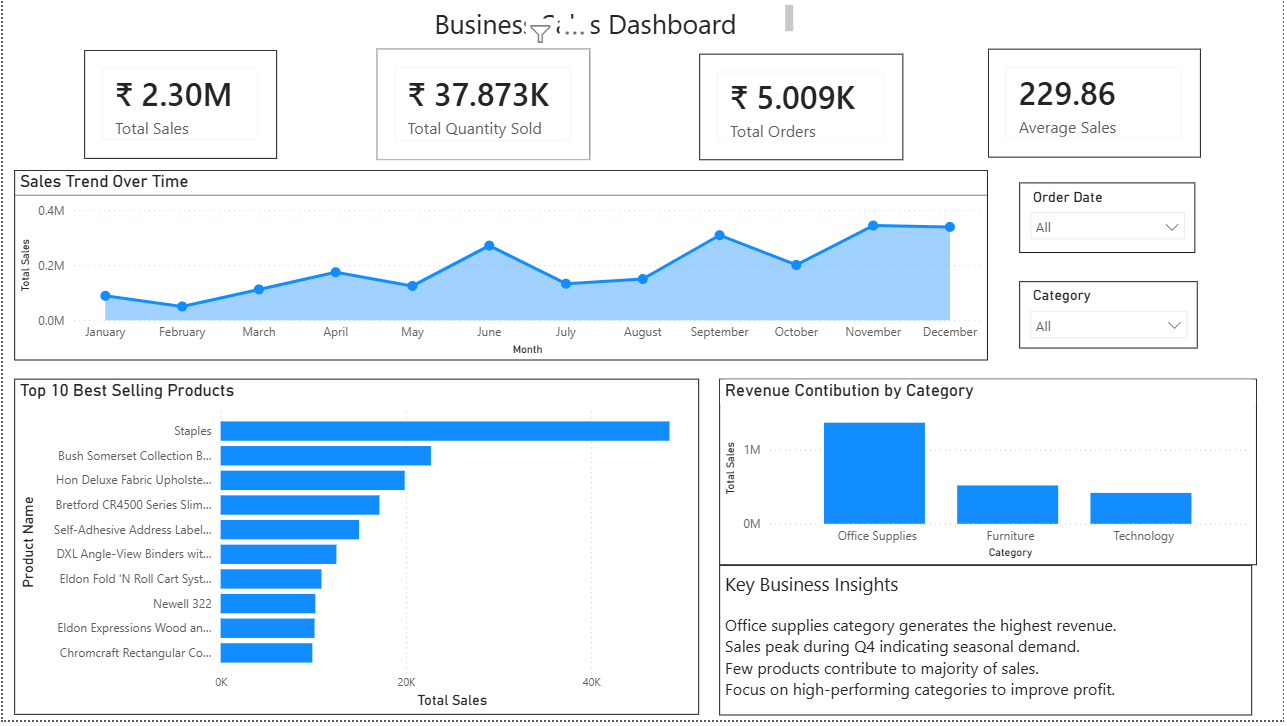

This screenshot's page, from the dashboard's own definition file:
{"tool":"powerbi","page":{"name":"Page 1","canvas":[1280,720],"ordinal":0},"visuals":[{"type":"textbox","box":[426.2,0,368.8,40],"z":0},{"type":"cardVisual","fields":{"Data":["Orders.Total Sales","select"]},"box":[81.2,50,192.5,108.8],"z":1000},{"type":"cardVisual","fields":{"Data":["Orders.Total Quantity Sold"]},"box":[373.8,48.8,213.8,111.2],"z":2000},{"type":"cardVisual","fields":{"Data":["Orders.Average Sales"]},"box":[985,48.8,212.5,108.8],"z":3000},{"type":"cardVisual","fields":{"Data":["Orders.Total Orders"]},"box":[696.2,53.8,203.8,106.2],"z":4000},{"type":"lineChart","title":"Sales Trend Over Time","fields":{"Y":["Orders.Total Sales"],"Category":["Orders.Order Date.Variation.Date Hierarchy.Month"]},"box":[11.2,170,973.8,190],"z":4001},{"type":"slicer","fields":{"Values":["Orders.Order Date"]},"box":[1016.2,182.5,176.2,70],"z":4002},{"type":"slicer","fields":{"Values":["Orders.Category"]},"box":[1016.2,281.2,178.8,67.5],"z":4003},{"type":"barChart","title":"Top 10 Best Selling Products","fields":{"Category":["Orders.Product Name"],"Y":["Orders.Total Sales"]},"box":[11.2,378.8,685,336.2],"z":4004},{"type":"columnChart","title":"Revenue Contibution by Category","fields":{"Category":["Orders.Category"],"Y":["Orders.Total Sales"]},"box":[716.2,378.8,537.5,186.2],"z":4005},{"type":"textbox","box":[716.2,565,532.5,150],"z":4007}]}

Visuals, with their boxes in screenshot pixels (x1, y1, x2, y2), scaled from the page's 1280x720 canvas onto the 1287x726 screenshot:
textbox: [429,0,799,40]
cardVisual - Orders.Total Sales x select: [82,50,275,160]
cardVisual - Orders.Total Quantity Sold: [376,49,591,161]
cardVisual - Orders.Average Sales: [990,49,1204,159]
cardVisual - Orders.Total Orders: [700,54,905,161]
"Sales Trend Over Time" lineChart: [11,171,990,363]
slicer - Orders.Order Date: [1022,184,1199,255]
slicer - Orders.Category: [1022,284,1202,352]
"Top 10 Best Selling Products" barChart: [11,382,700,721]
"Revenue Contibution by Category" columnChart: [720,382,1261,570]
textbox: [720,570,1256,721]
